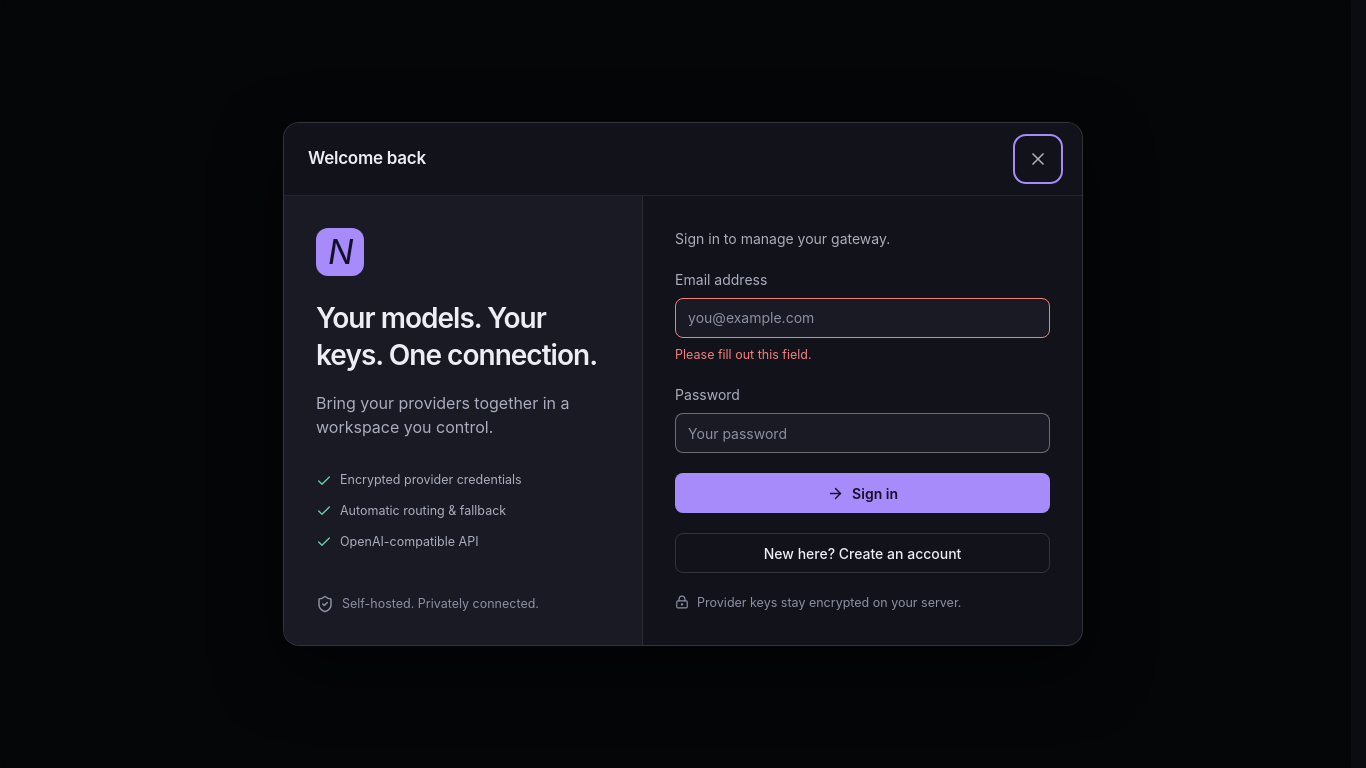
Test: Authentication › associates invalid inputs with inline help and announces server failures
The image size is (1366, 768).
In the field labelled "Email address": (863, 318) [675, 298, 1050, 338], type "alex@example.com"
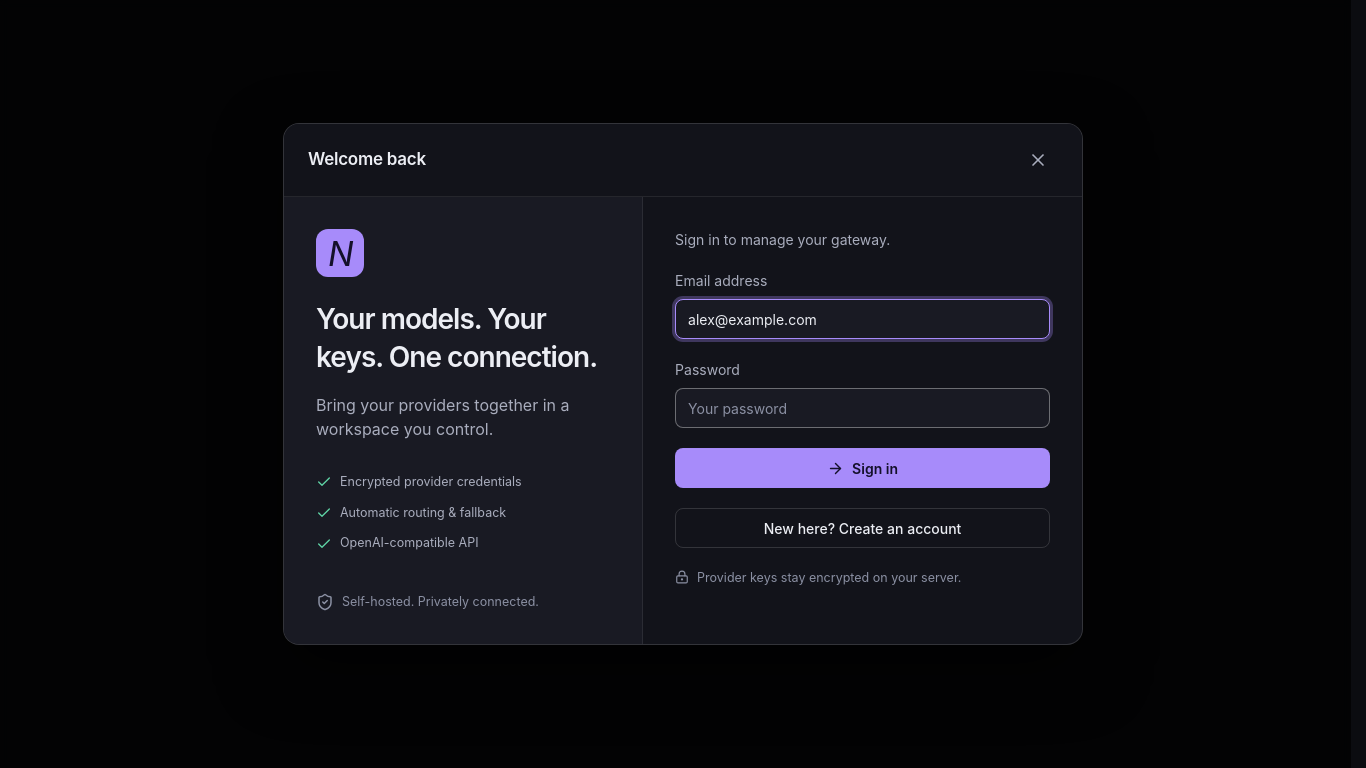
In the password field labelled "Password": (863, 408) [675, 388, 1050, 428], type "test-password-123"
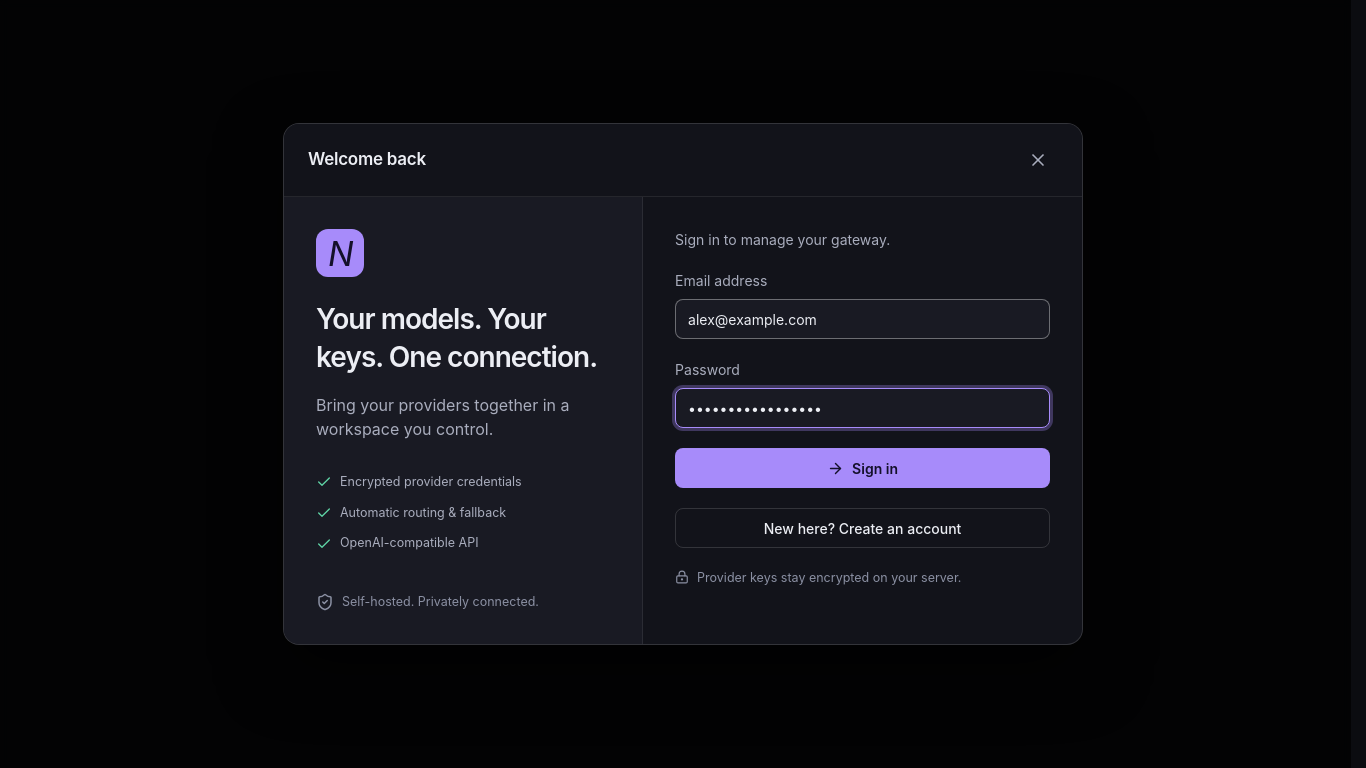
Expected: the field labelled "Email address" is not marked as invalid, [675, 299, 1050, 339]
Click the button "Sign in": click(863, 468) [675, 448, 1050, 488]
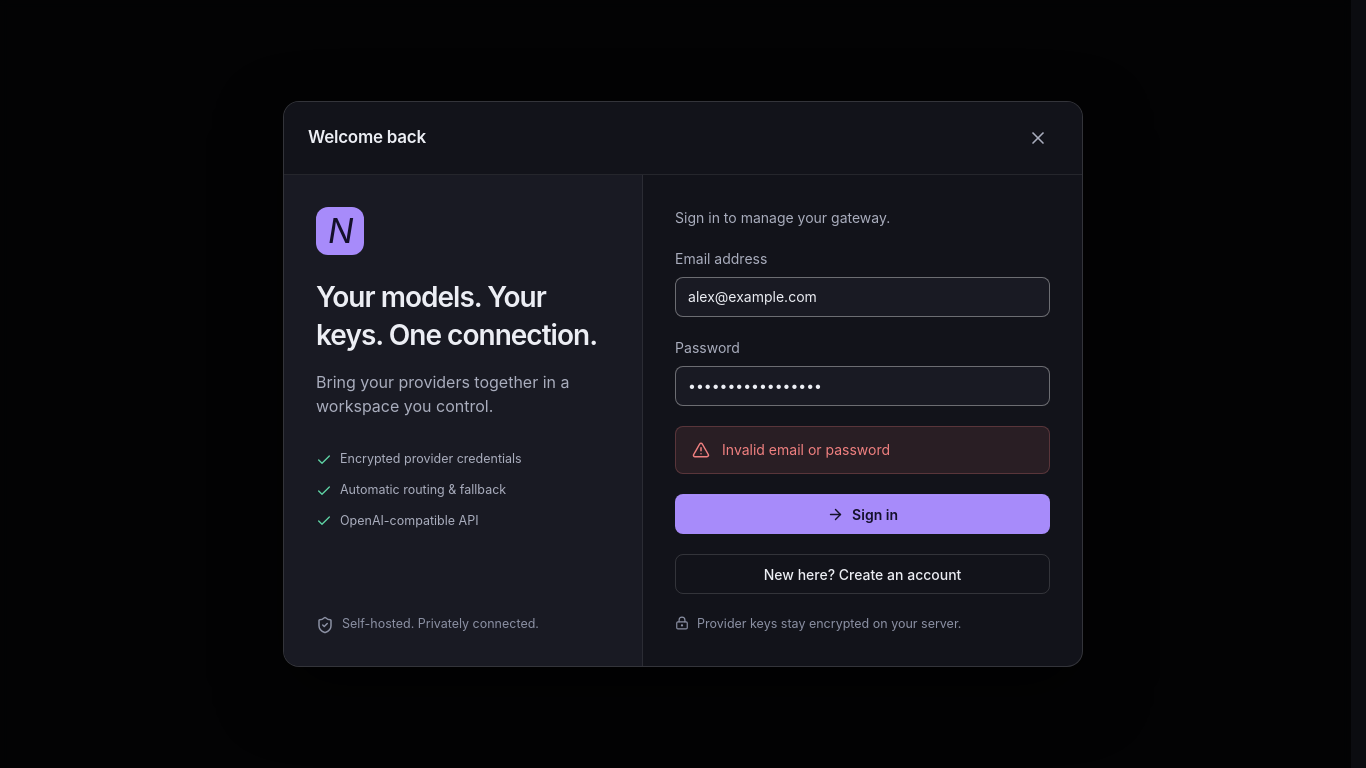
Expected: the button "Sign in" is enabled, [675, 494, 1050, 534]
Expected: the message reads "Invalid email or password", [722, 441, 890, 458]
